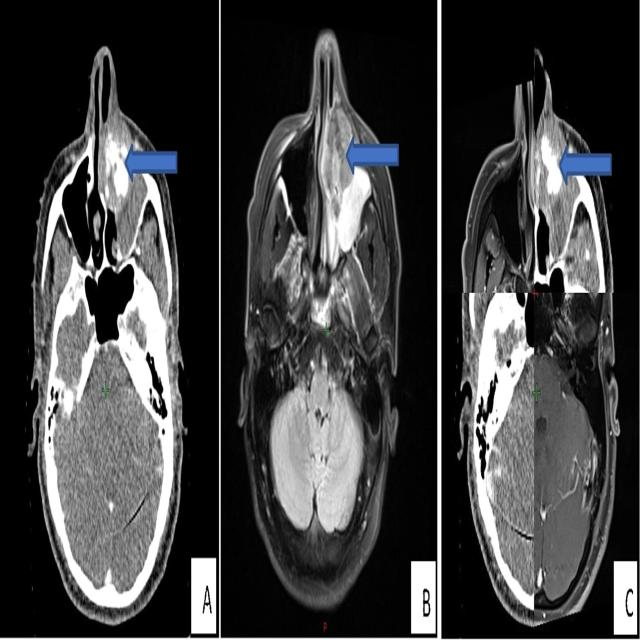Tumor: (103, 131, 134, 202), (540, 127, 558, 202), (326, 116, 346, 177)
